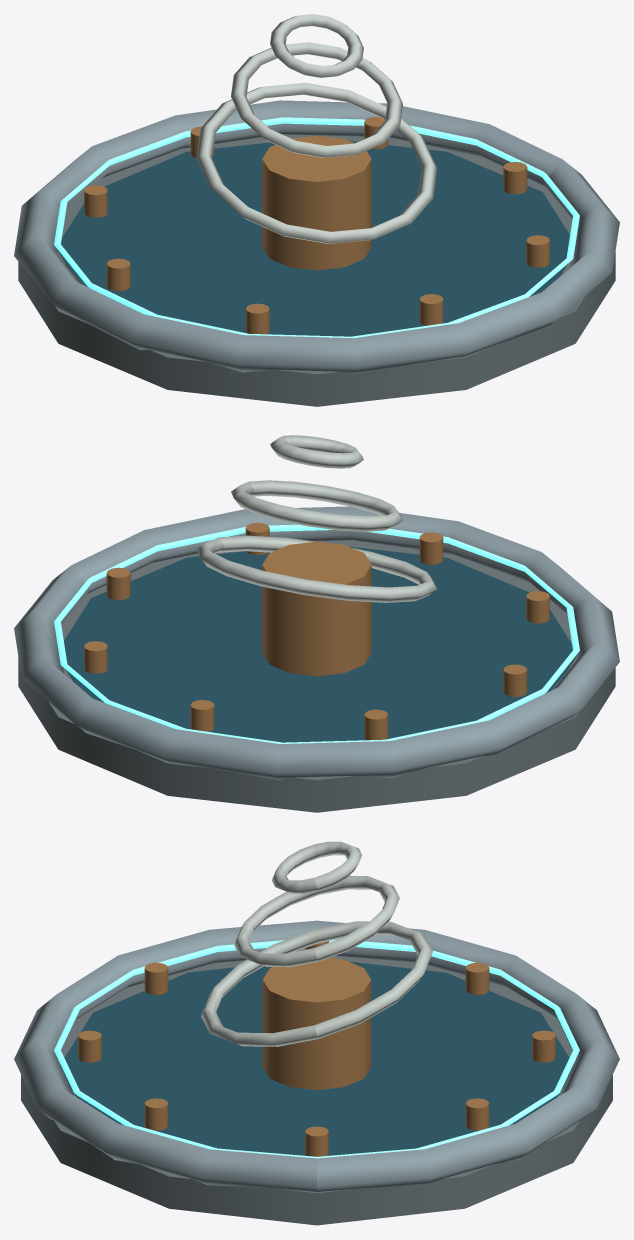
File: kinetic-fountain.lod2.glb
The picture shows the model from 3 angles, top to bottom: view 1: azimuth 30°, elevation 25°; view 2: azimuth 150°, elevation 25°; view 3: azimuth 270°, elevation 25°; orthographic projection.
Visible parts, largest first — view 1: structure, sculpture; view 2: structure, sculpture; view 3: structure, sculpture.
Part boxes in pixels (x1=…): structure: x1=14, y1=100, x2=619, y2=406; sculpture: x1=196, y1=14, x2=437, y2=243; structure: x1=14, y1=506, x2=619, y2=812; sculpture: x1=196, y1=435, x2=436, y2=602; structure: x1=14, y1=920, x2=619, y2=1225; sculpture: x1=201, y1=841, x2=432, y2=1046.
Size of the model in its own units: 6.14 by 2.79 by 6.14.
